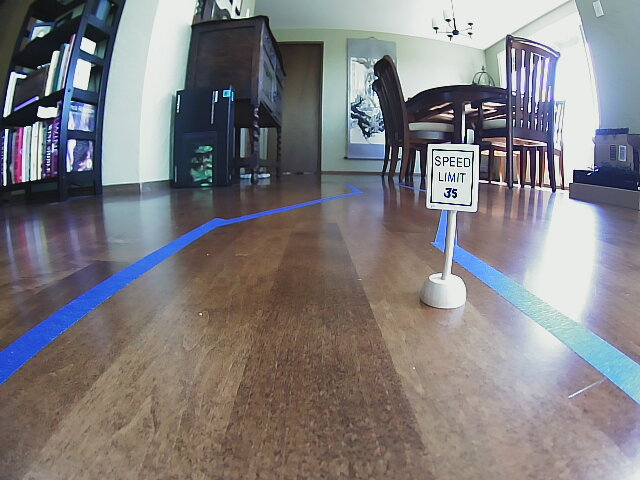SpeedLimit35: (429, 144, 475, 207)
